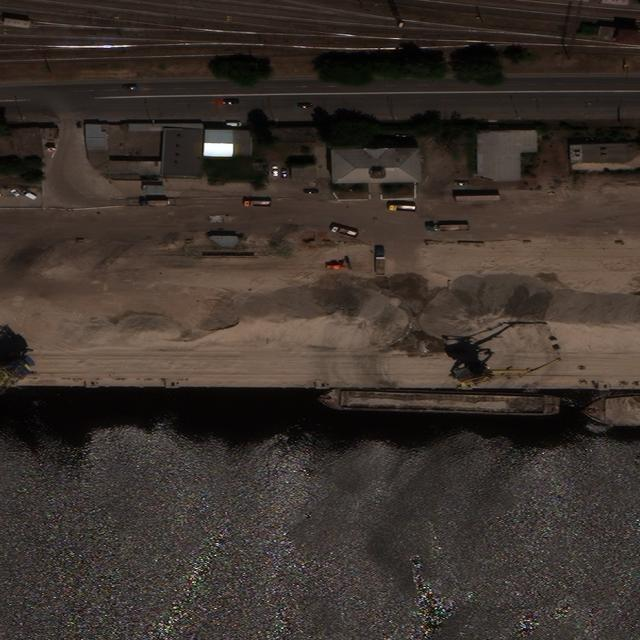Cargo: (317, 386, 561, 418), (580, 397, 640, 429)
